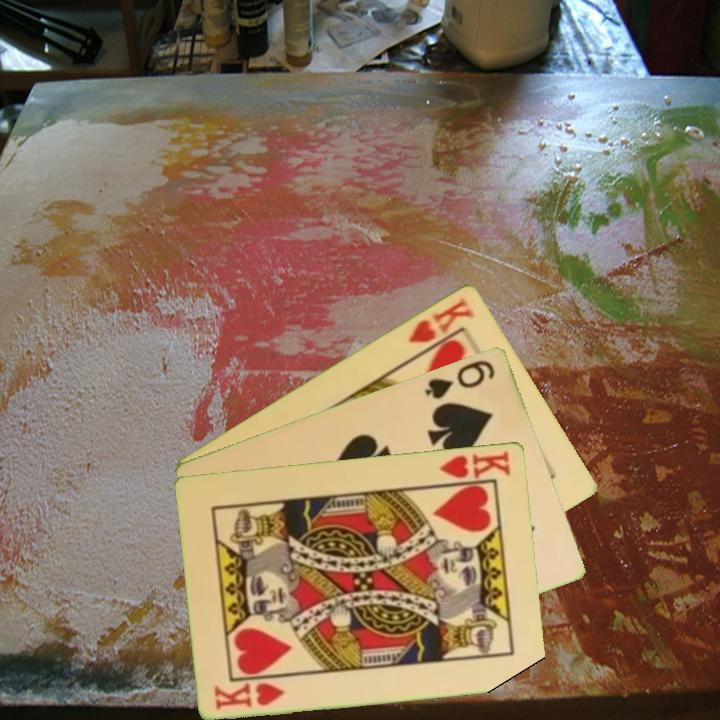6s: (422, 356, 499, 402)
Kh: (405, 292, 477, 359), (433, 447, 514, 487), (211, 678, 288, 712)
